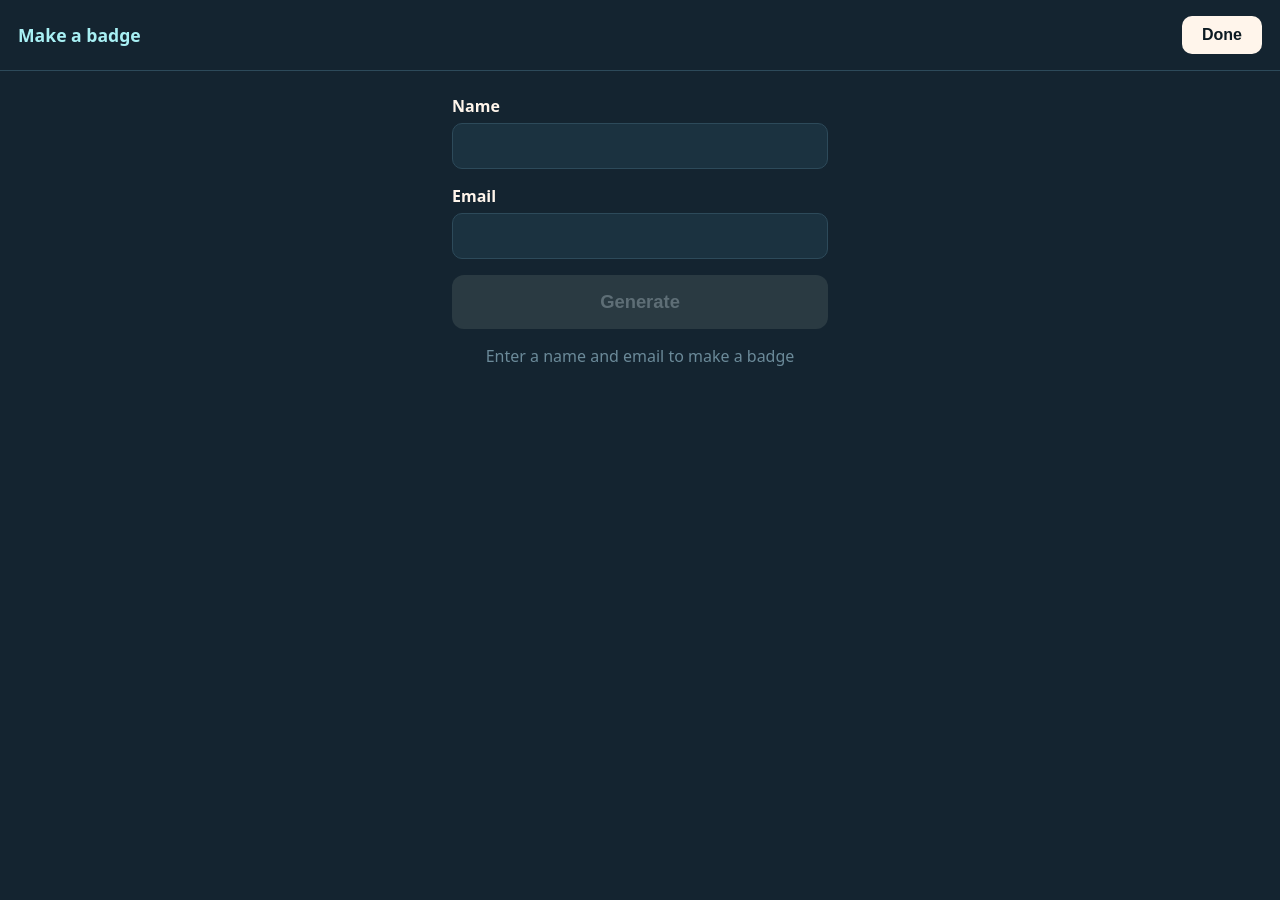
Scenario: BadgeGenerator › disables Generate until a name and email-ish address are entered
The image size is (1280, 900).
Expected: the button "Generate" is disabled, [452,275,828,329]
In the field labelled "Name": (640, 146) [452,123,828,169], type "Ada Lovelace"
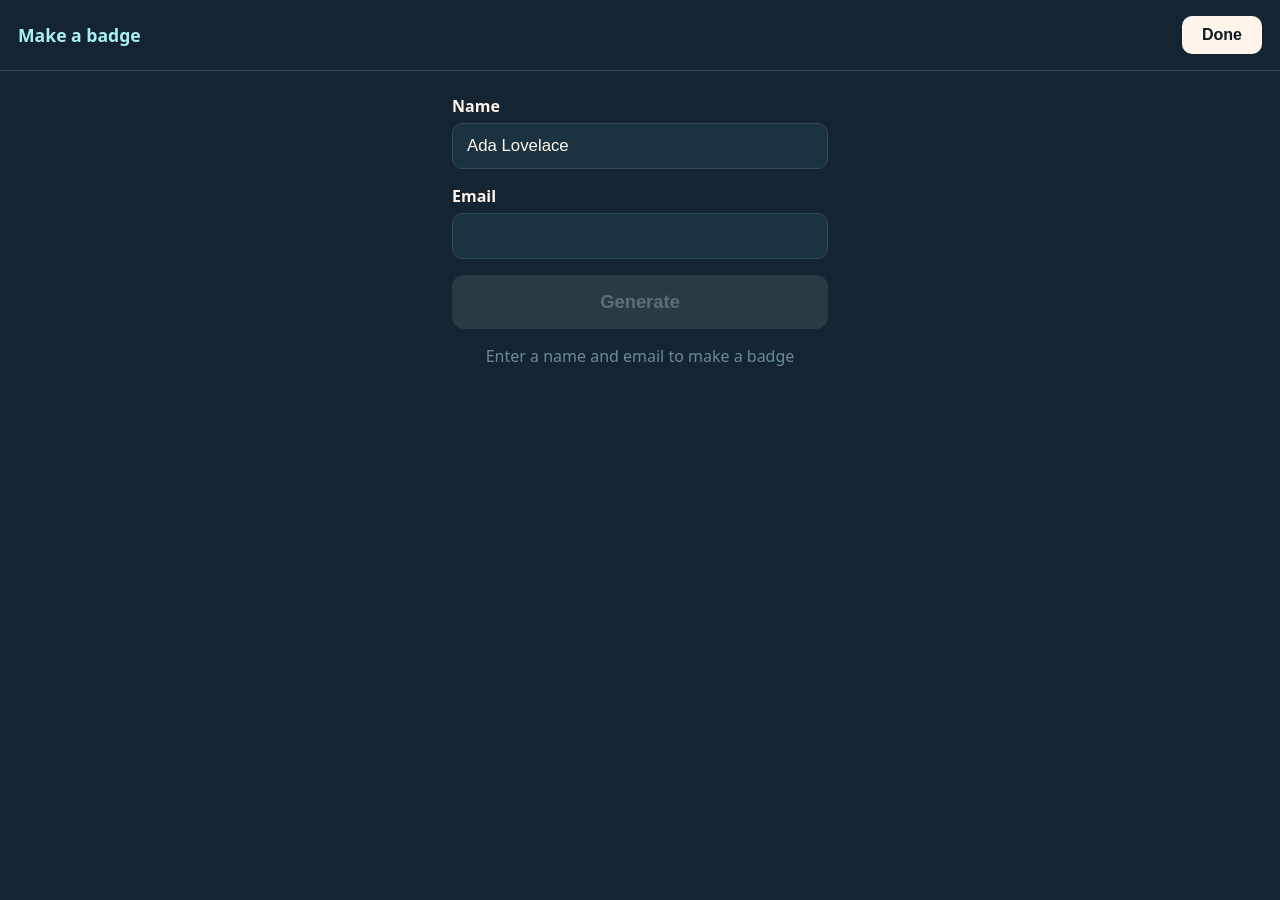
Expected: the button "Generate" is disabled, [452,275,828,329]
In the field labelled "Email": (640, 236) [452,213,828,259], type "ada@dayofdata.example"
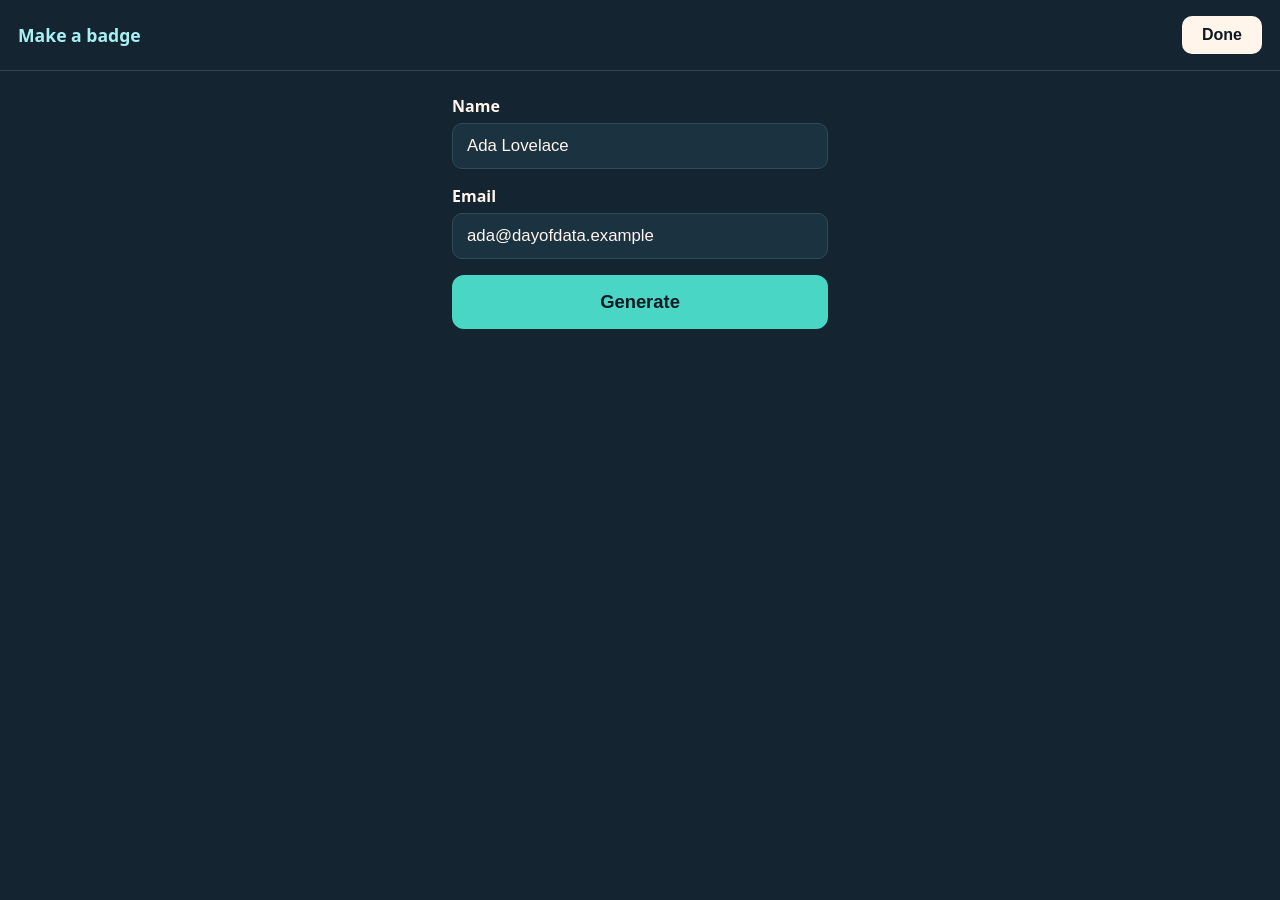
Expected: the button "Generate" is enabled, [452,275,828,329]
